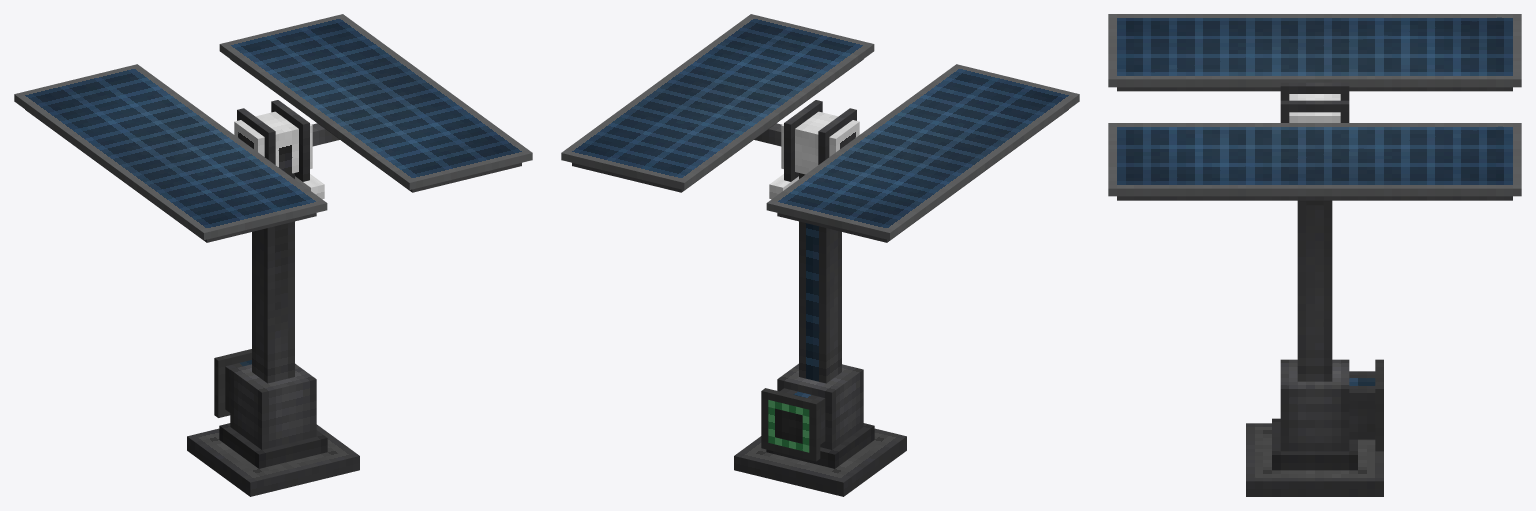
The model's file is advanced_solar_generator.obj.
The picture shows the model from 3 angles, left to right: view 1: azimuth 30°, elevation 25°; view 2: azimuth 150°, elevation 25°; view 3: azimuth 270°, elevation 25°; orthographic projection. The views are drawn at different scales.
Parts seen in each view (by area): view 1: solar_panel_west, solar_panel_east, pole, base3, base, barrel, base2, ring2, port, ring1, solar_panel_west_base, solar_panel_east_base; view 2: solar_panel_west, solar_panel_east, pole, base, base3, port, barrel, base2, ring2, ring1, solar_panel_west_base, solar_panel_east_base; view 3: solar_panel_east, solar_panel_west, pole, base3, base, base2, solar_panel_east_base, connector, solar_panel_west_base, ring2, ring1, barrel (+1 smaller).
Boxes of the visible parts, x1,y1,x2,y2 form: solar_panel_west: [14, 64, 327, 240]; solar_panel_east: [219, 14, 532, 189]; pole: [252, 173, 294, 383]; base3: [230, 363, 316, 449]; base: [187, 424, 359, 496]; barrel: [234, 111, 312, 174]; base2: [219, 423, 327, 468]; ring2: [271, 100, 309, 181]; port: [214, 349, 251, 417]; ring1: [237, 108, 275, 164]; solar_panel_west_base: [25, 109, 316, 242]; solar_panel_east_base: [230, 59, 521, 192]; solar_panel_west: [766, 64, 1079, 240]; solar_panel_east: [561, 14, 874, 189]; pole: [799, 173, 841, 383]; base: [734, 428, 906, 496]; base3: [777, 363, 863, 449]; port: [761, 388, 820, 461]; barrel: [781, 111, 859, 174]; base2: [766, 423, 874, 468]; ring2: [784, 100, 822, 181]; ring1: [818, 108, 856, 164]; solar_panel_west_base: [777, 109, 1068, 242]; solar_panel_east_base: [572, 59, 863, 192]; solar_panel_east: [1108, 123, 1521, 196]; solar_panel_west: [1108, 14, 1521, 87]; pole: [1297, 200, 1332, 381]; base3: [1280, 359, 1349, 451]; base: [1246, 423, 1383, 496]; base2: [1272, 418, 1357, 470]; solar_panel_east_base: [1117, 196, 1512, 200]; connector: [1349, 371, 1375, 439]; solar_panel_west_base: [1117, 87, 1512, 91]; ring2: [1280, 100, 1349, 122]; ring1: [1280, 82, 1349, 100]; barrel: [1289, 94, 1340, 122].
Bounding box in the file's own units: 3 × 3 × 3.
3 materials, 3 textured.
